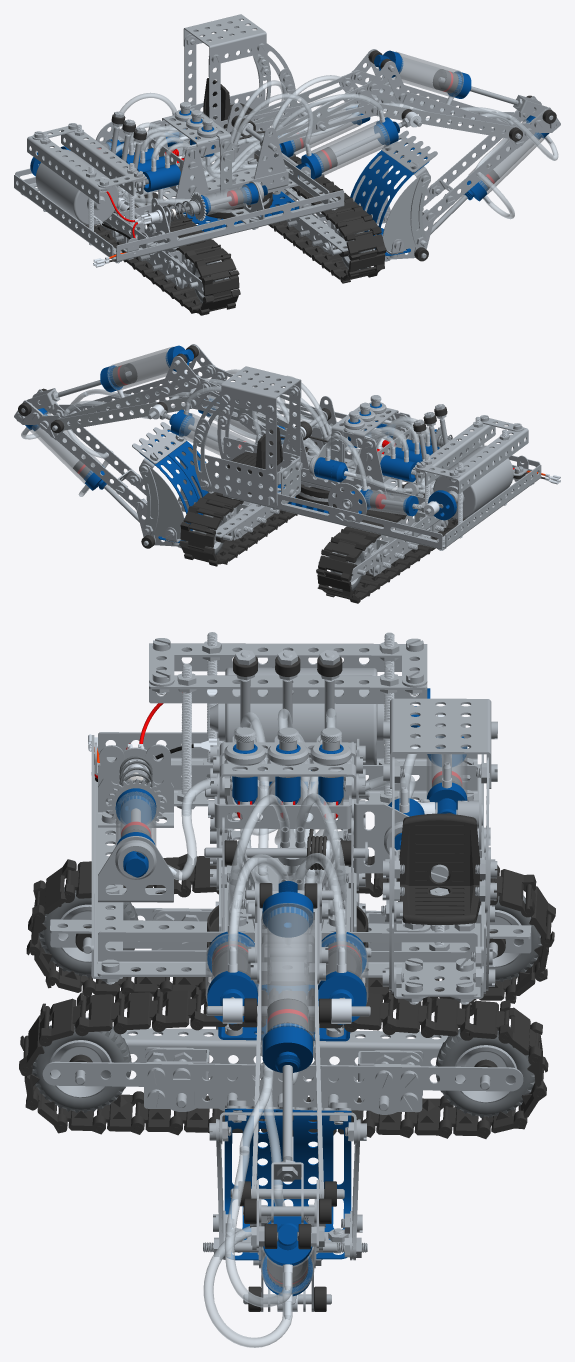
The model's file is Bagger_VVV-Gesamtmodell.glb.
The picture shows the model from 3 angles, top to bottom: view 1: azimuth 30°, elevation 25°; view 2: azimuth 150°, elevation 25°; view 3: azimuth 270°, elevation 25°; orthographic projection. The views are drawn at different scales.
Parts seen in each view (by area): view 1: Arbeitszylinder Wand (×4), Kettenglied (×9), Winkelstab 11 (×2), Winkelstab 15 (×4), Winkelstab 20, Motor D 40 d 4, Winkelplatte 3 x 5, Lochband 15 (×2), Lochband 15 oben (×2), Seitenplatte (×2), Langlochband 11 oben (×2), Trapezplatte 3 x 5 abgewinkelt (×2) (+29 smaller); view 2: Kettenglied (×9), Arbeitszylinder Wand (×4), Winkelstab 11 (×2), Winkelstab 20, Winkelplatte 3 x 5, Motor D 40 d 4, Lochband 15 (×2), Winkelstab 15 (×2), Platte 3 x 7, Lochband 15 oben (×2), Lochband 9 (×2), Lochband 15 unten (+26 smaller); view 3: Kettenglied (×18), Winkelstab 15 (×4), Arbeitszylinder Wand (×4), Winkelstab 11 (×2), Winkelstab 19 (×2), Lochband 19, Reifen 40 x 20 x 10 (×4), Sitz (×2), Motor D 40 d 4, Befestigungswinkel (×3), Winkelplatte 3 x 5, Bügel 1 x 5 x 1 (×2) (+26 smaller).
Boxes of the visible parts, x1,y1,x2,y2 form: Arbeitszylinder Wand (×4): [290, 51, 544, 194]; Kettenglied (×9): [176, 209, 386, 313]; Winkelstab 11 (×2): [27, 130, 146, 203]; Winkelstab 15 (×4): [14, 131, 338, 259]; Winkelstab 20: [115, 190, 344, 261]; Motor D 40 d 4: [35, 149, 118, 225]; Winkelplatte 3 x 5: [183, 14, 266, 65]; Lochband 15 (×2): [422, 98, 545, 228]; Lochband 15 oben (×2): [351, 70, 517, 133]; Seitenplatte (×2): [352, 155, 426, 251]; Langlochband 11 oben (×2): [242, 70, 371, 146]; Trapezplatte 3 x 5 abgewinkelt (×2): [219, 103, 286, 184]; Kettenglied (×9): [179, 492, 375, 597]; Arbeitszylinder Wand (×4): [29, 346, 278, 483]; Winkelstab 11 (×2): [413, 422, 528, 493]; Winkelstab 20: [223, 493, 444, 549]; Winkelplatte 3 x 5: [221, 366, 301, 415]; Motor D 40 d 4: [433, 445, 513, 518]; Lochband 15 (×2): [28, 391, 147, 517]; Winkelstab 15 (×2): [277, 463, 541, 548]; Platte 3 x 7: [200, 454, 277, 506]; Lochband 15 oben (×2): [56, 365, 215, 425]; Lochband 9 (×2): [265, 385, 300, 506]; Lochband 15 unten: [56, 395, 209, 430]; Kettenglied (×18): [19, 856, 555, 1138]; Winkelstab 15 (×4): [97, 732, 477, 977]; Arbeitszylinder Wand (×4): [205, 903, 368, 1294]; Winkelstab 11 (×2): [149, 643, 427, 703]; Winkelstab 19 (×2): [50, 919, 531, 1066]; Lochband 19: [42, 1061, 523, 1091]; Reifen 40 x 20 x 10 (×4): [32, 887, 541, 1117]; Sitz (×2): [397, 813, 481, 924]; Motor D 40 d 4: [210, 667, 384, 764]; Befestigungswinkel (×3): [98, 747, 409, 902]; Winkelplatte 3 x 5: [390, 698, 491, 788]; Bügel 1 x 5 x 1 (×2): [214, 763, 356, 829].
Bounding box in the file's own units: 0.4476 × 0.1944 × 0.2123.
